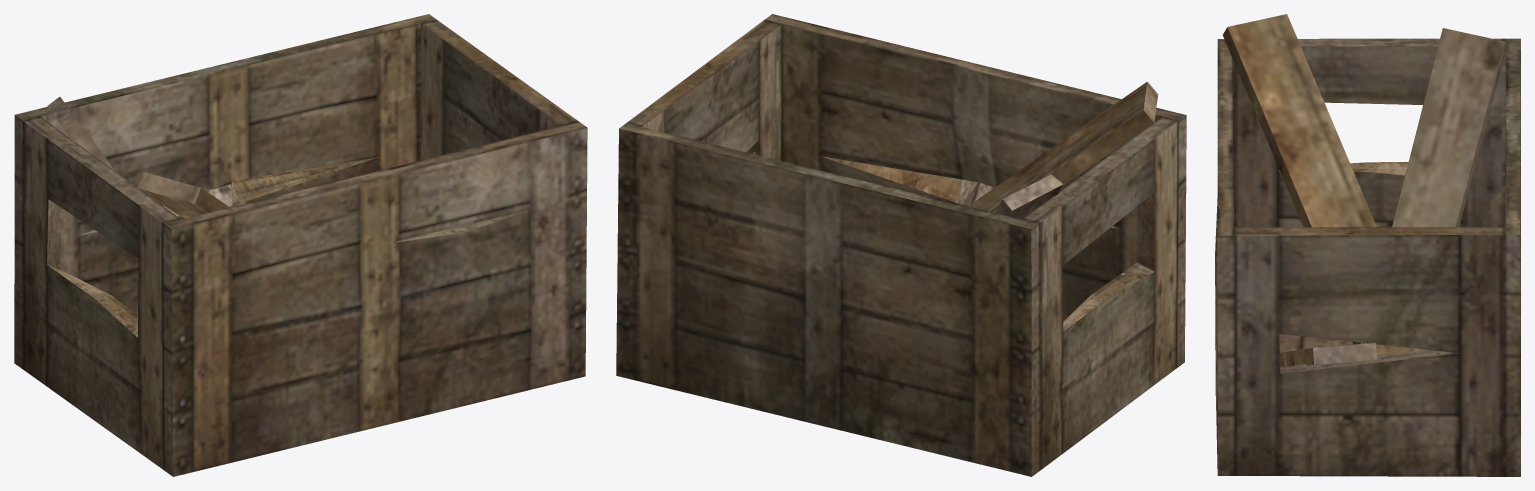
3 views of the same model, side by side, from view 1: azimuth 30°, elevation 25°; view 2: azimuth 150°, elevation 25°; view 3: azimuth 270°, elevation 25° (orthographic). The views are drawn at different scales.
Parts seen in each view (by area): view 1: LV_Common_Object_A_WoodBox03_SM_PYO; view 2: LV_Common_Object_A_WoodBox03_SM_PYO; view 3: LV_Common_Object_A_WoodBox03_SM_PYO.
Part boxes in pixels (bbox=[...]): LV_Common_Object_A_WoodBox03_SM_PYO: bbox=[14, 14, 587, 476]; LV_Common_Object_A_WoodBox03_SM_PYO: bbox=[616, 14, 1186, 476]; LV_Common_Object_A_WoodBox03_SM_PYO: bbox=[1215, 14, 1520, 476].
Bounding box in the file's own units: 0.1842 × 0.1072 × 0.1103.
1 material, 1 textured.
